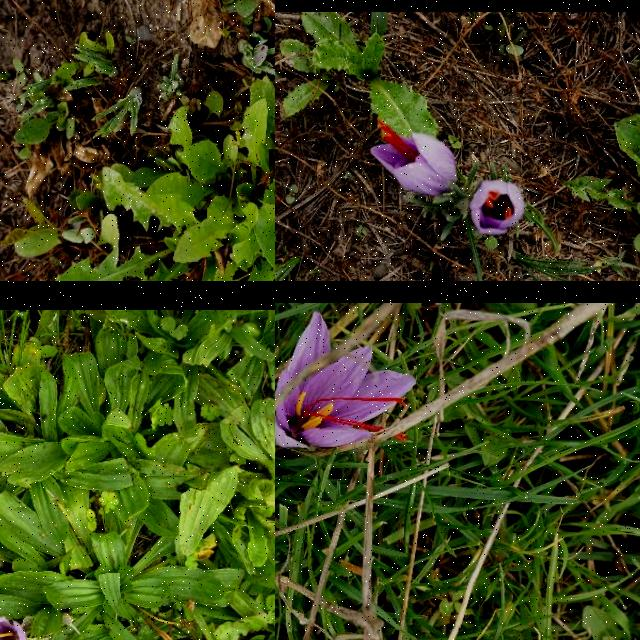flower: (275, 311, 418, 449), (369, 120, 458, 197), (470, 180, 526, 236)
